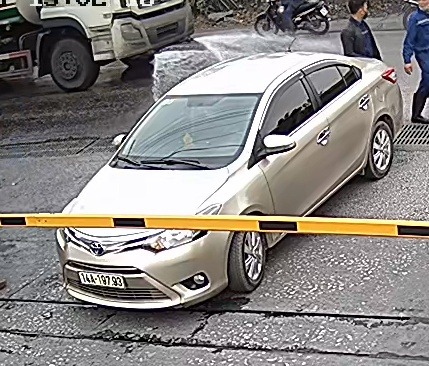vehicle plate: (76, 267, 126, 291)
